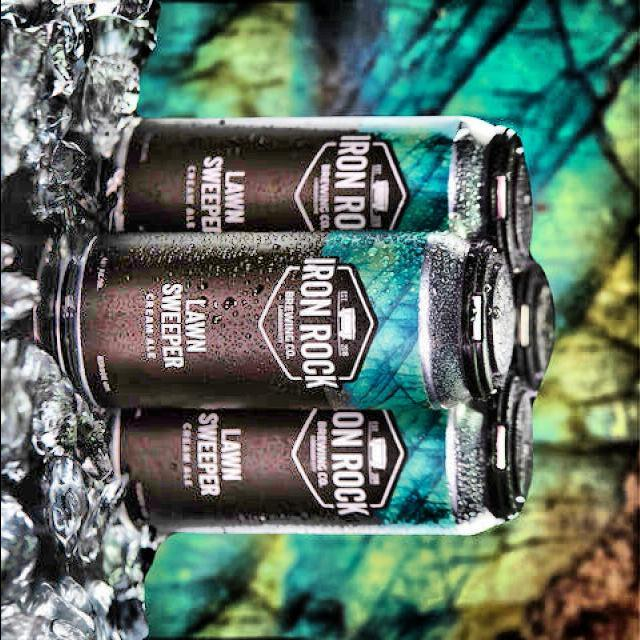litter: (53, 228, 519, 410), (108, 115, 536, 277), (103, 382, 538, 539)
